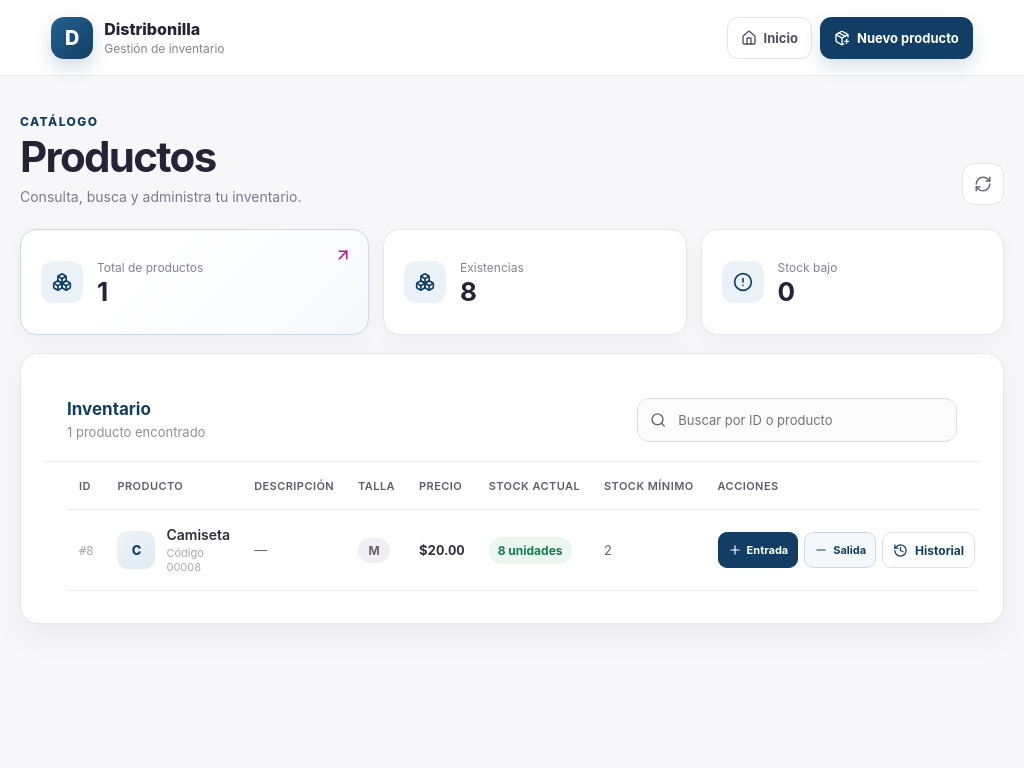
increases stock from the catalog and reloads the product list
Click the button with aria-label "Aumentar stock de Camiseta": point(758, 550) [718,532,798,568]
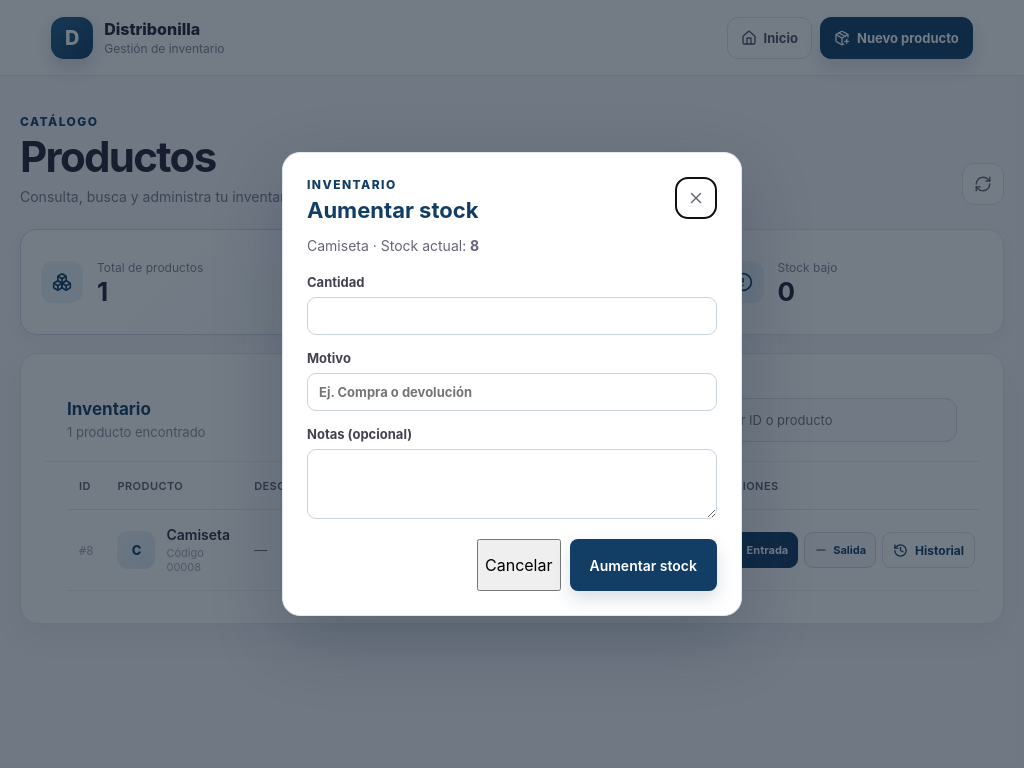
In the number field labelled "Cantidad": point(512, 316) [307,297,717,335], type "5"
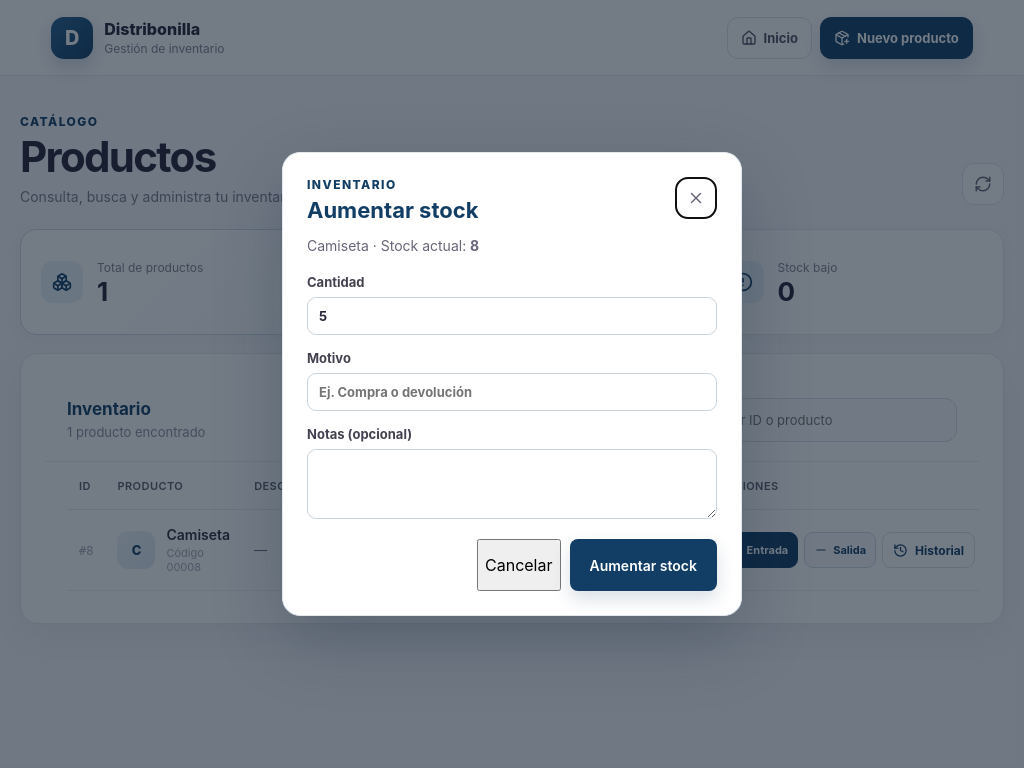
In the field labelled "Motivo": point(512, 392) [307,373,717,411], type "Compra"
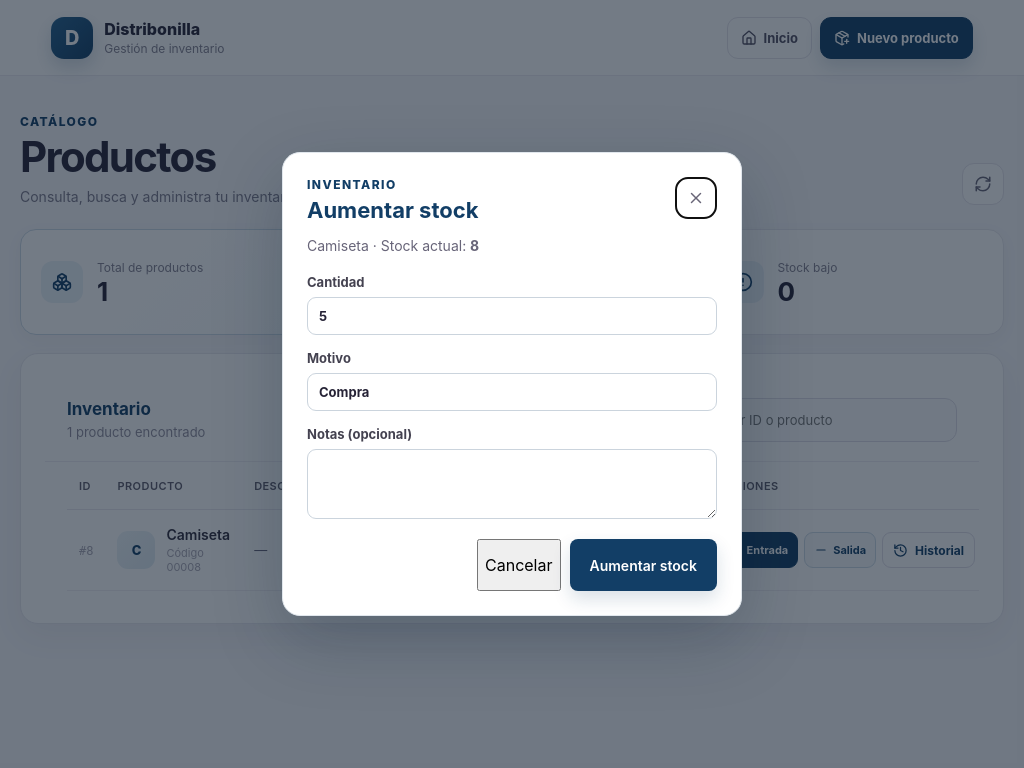
Click the button "Aumentar stock": point(643, 565) [570,539,717,591]
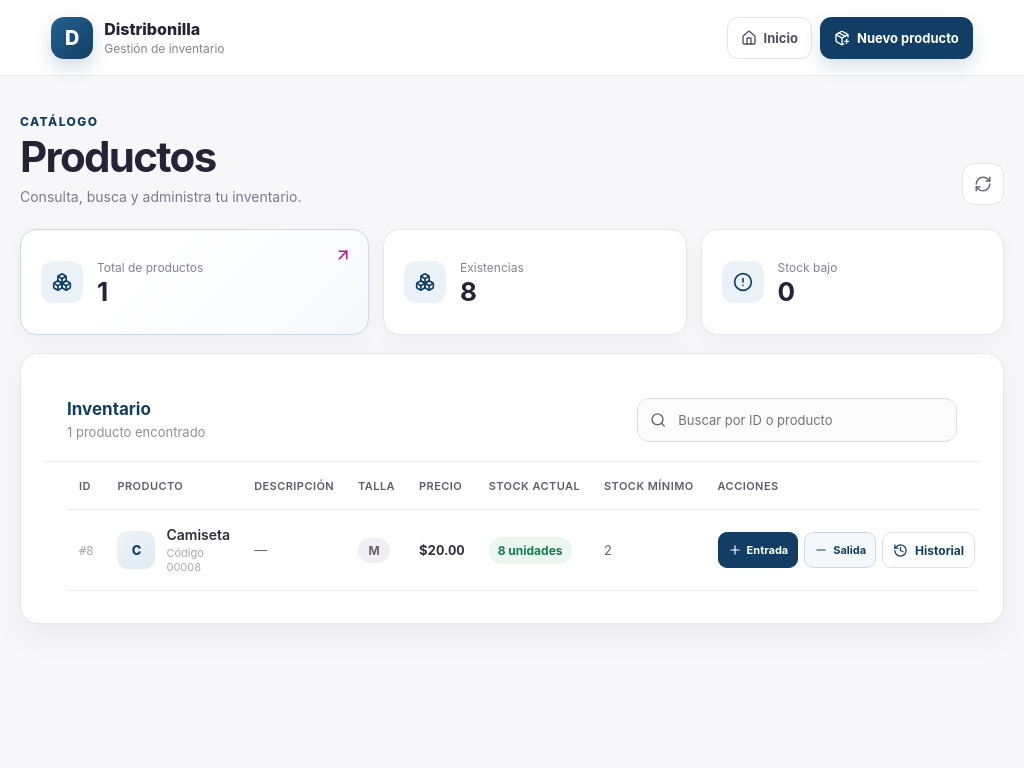
expect the dialog is gone: met
